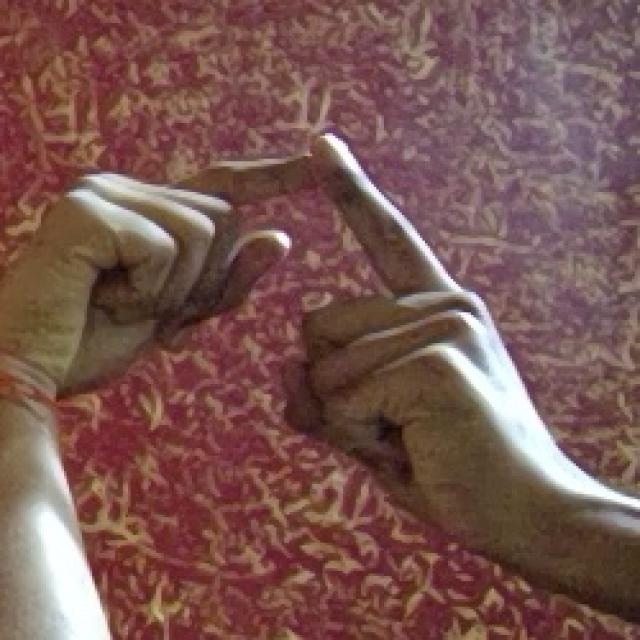Alphabet-E: (29, 109, 546, 562)
